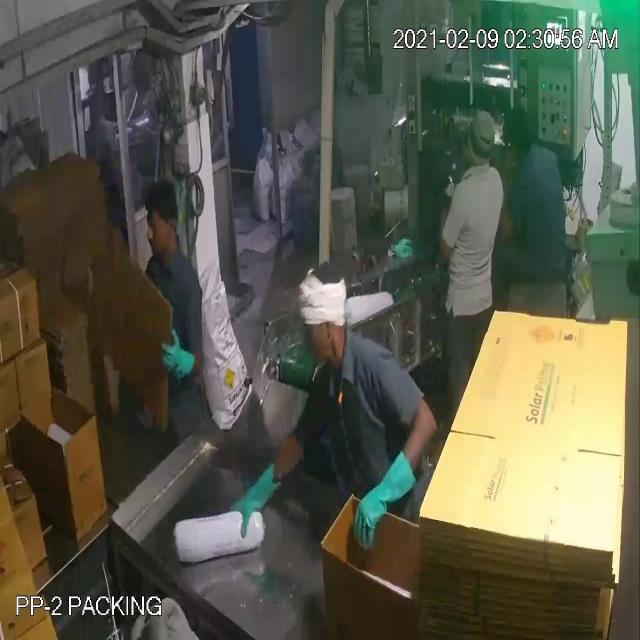Gloves: (46, 76, 384, 500)
